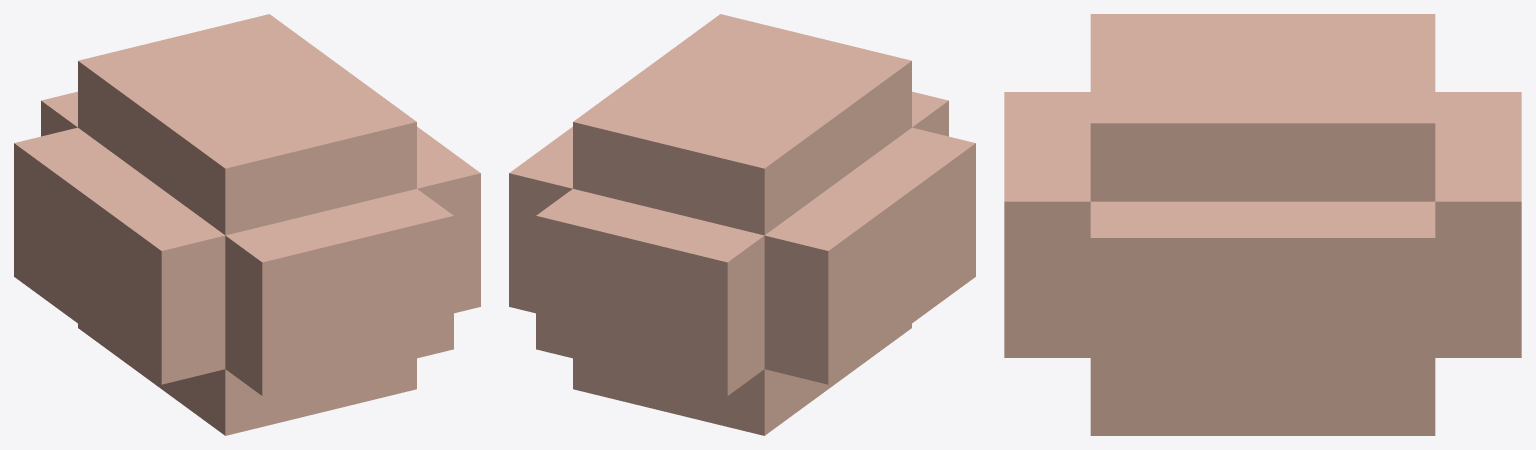
Rendered from HandsL1.fbx.
3 views of the same model, side by side, from view 1: azimuth 30°, elevation 25°; view 2: azimuth 150°, elevation 25°; view 3: azimuth 270°, elevation 25° (orthographic). The views are drawn at different scales.
Visible parts, largest first — view 1: HandsL1; view 2: HandsL1; view 3: HandsL1.
Boxes of the visible parts, x1,y1,x2,y2 form: HandsL1: (14, 14, 480, 435); HandsL1: (509, 14, 975, 435); HandsL1: (1004, 14, 1521, 435).
Size of the model in its own units: 50 by 40 by 60.
